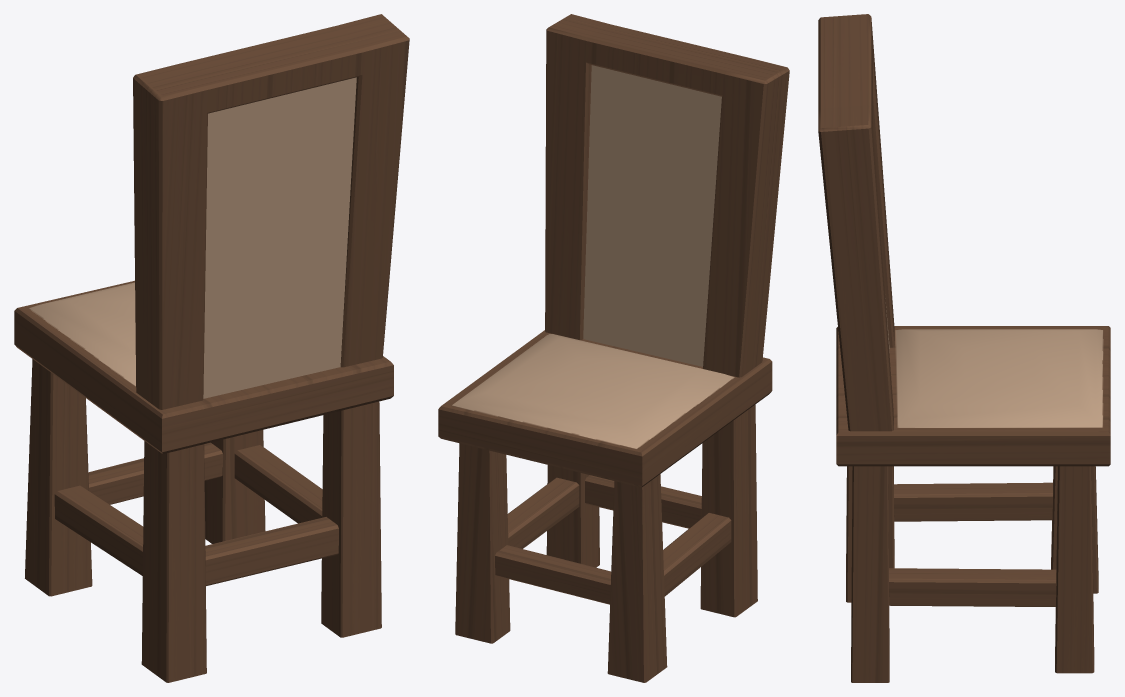
The model's file is KitchenChair.fbx.
3 renders of one model, left to right at view 1: azimuth 30°, elevation 25°; view 2: azimuth 150°, elevation 25°; view 3: azimuth 270°, elevation 25°, orthographic. The views are drawn at different scales.
Visible parts, largest first — view 1: Kitchen_Chair; view 2: Kitchen_Chair; view 3: Kitchen_Chair.
Boxes of the visible parts, x1,y1,x2,y2 form: Kitchen_Chair: [14, 14, 409, 682]; Kitchen_Chair: [438, 14, 789, 682]; Kitchen_Chair: [818, 14, 1110, 682].
Size of the model in its own units: 63.19 by 146 by 68.66.
1 material, 1 textured.
